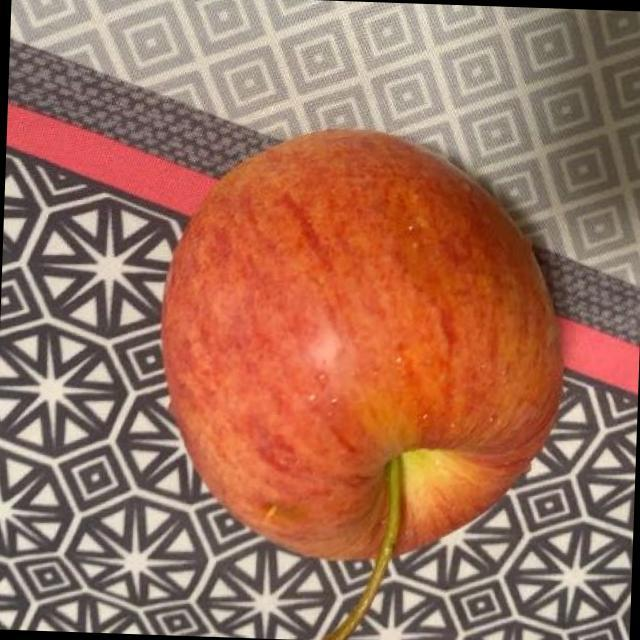Apple: (132, 107, 587, 640)
